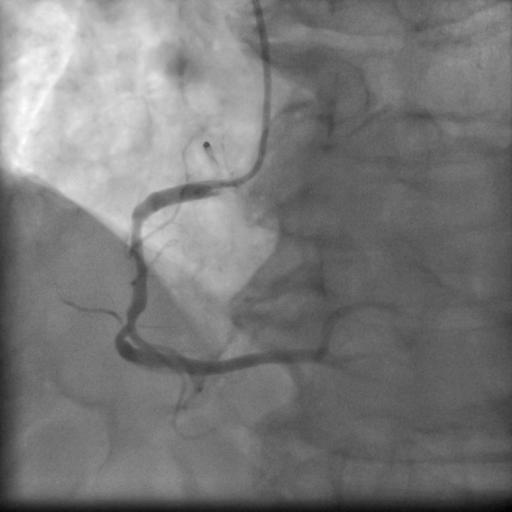Stenosis: (120, 212, 150, 327)
